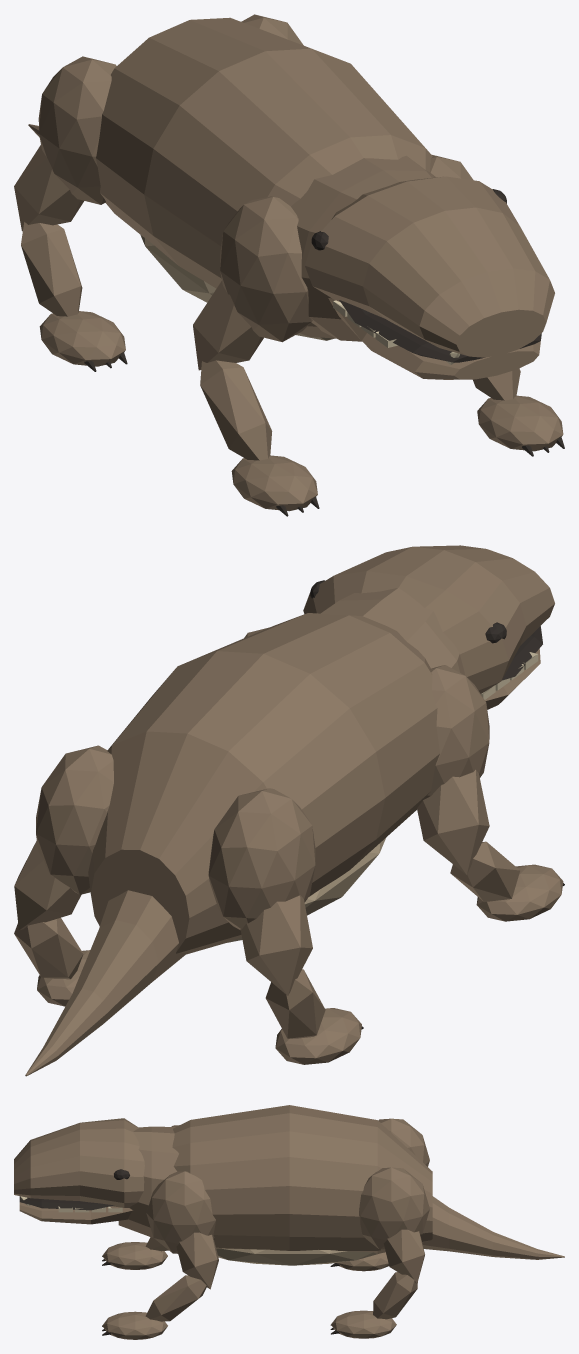
3 views of the same model, one above another, from view 1: azimuth 30°, elevation 25°; view 2: azimuth 150°, elevation 25°; view 3: azimuth 270°, elevation 25° (orthographic). The views are drawn at different scales.
Visible parts, largest first — view 1: surface_warm_brown, surface_eyes_mouth_claws, surface_subdued_underside; view 2: surface_warm_brown, surface_subdued_underside, surface_eyes_mouth_claws; view 3: surface_warm_brown, surface_subdued_underside, surface_eyes_mouth_claws, surface_teeth.
Part boxes in pixels (x1,y1,x2,y2): surface_warm_brown: [14, 14, 563, 511]; surface_eyes_mouth_claws: [84, 189, 564, 516]; surface_subdued_underside: [140, 235, 334, 340]; surface_warm_brown: [14, 545, 563, 1076]; surface_subdued_underside: [228, 838, 385, 942]; surface_eyes_mouth_claws: [310, 580, 564, 1029]; surface_warm_brown: [14, 1105, 564, 1339]; surface_subdued_underside: [216, 1248, 377, 1265]; surface_eyes_mouth_claws: [19, 1169, 339, 1335]; surface_teeth: [20, 1196, 122, 1212].
Bounding box in the file's own units: 0.3799 × 0.378 × 1.
